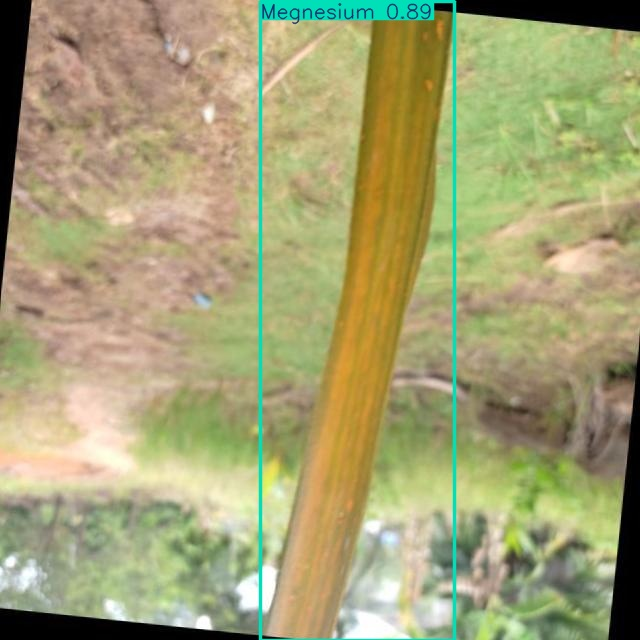Megnesium: (260, 1, 455, 640)
